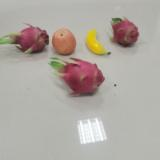apple: (53, 28, 76, 55)
pitaya: (51, 56, 106, 95), (5, 26, 50, 54), (111, 18, 140, 47)
